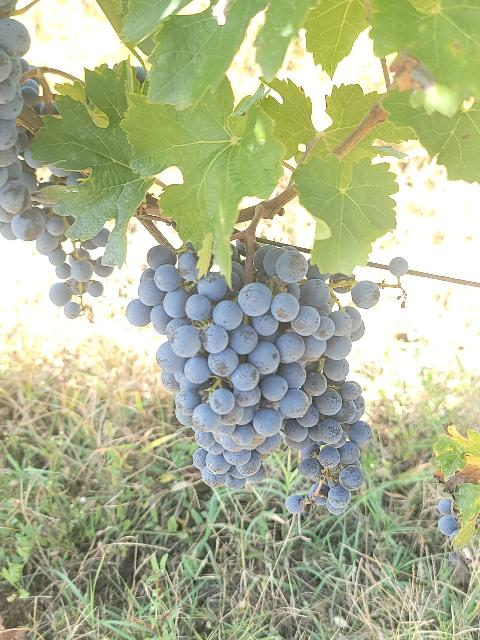grapes: (126, 245, 341, 490), (0, 18, 111, 318), (285, 279, 372, 515)
